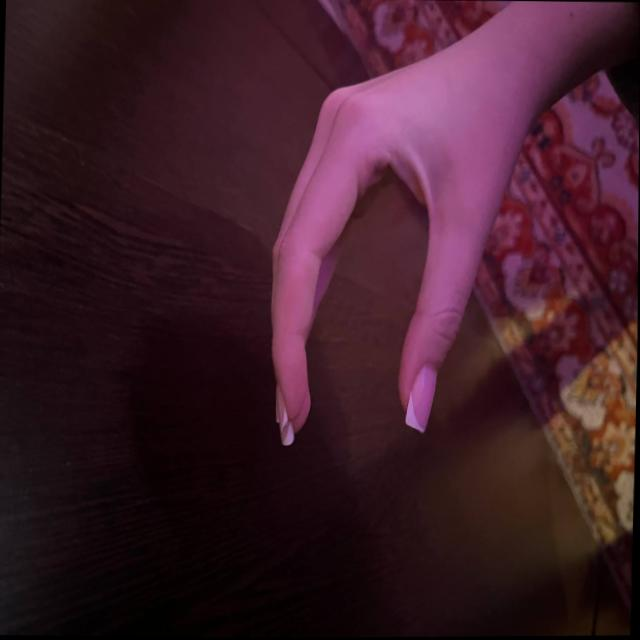s: (239, 7, 534, 478)
